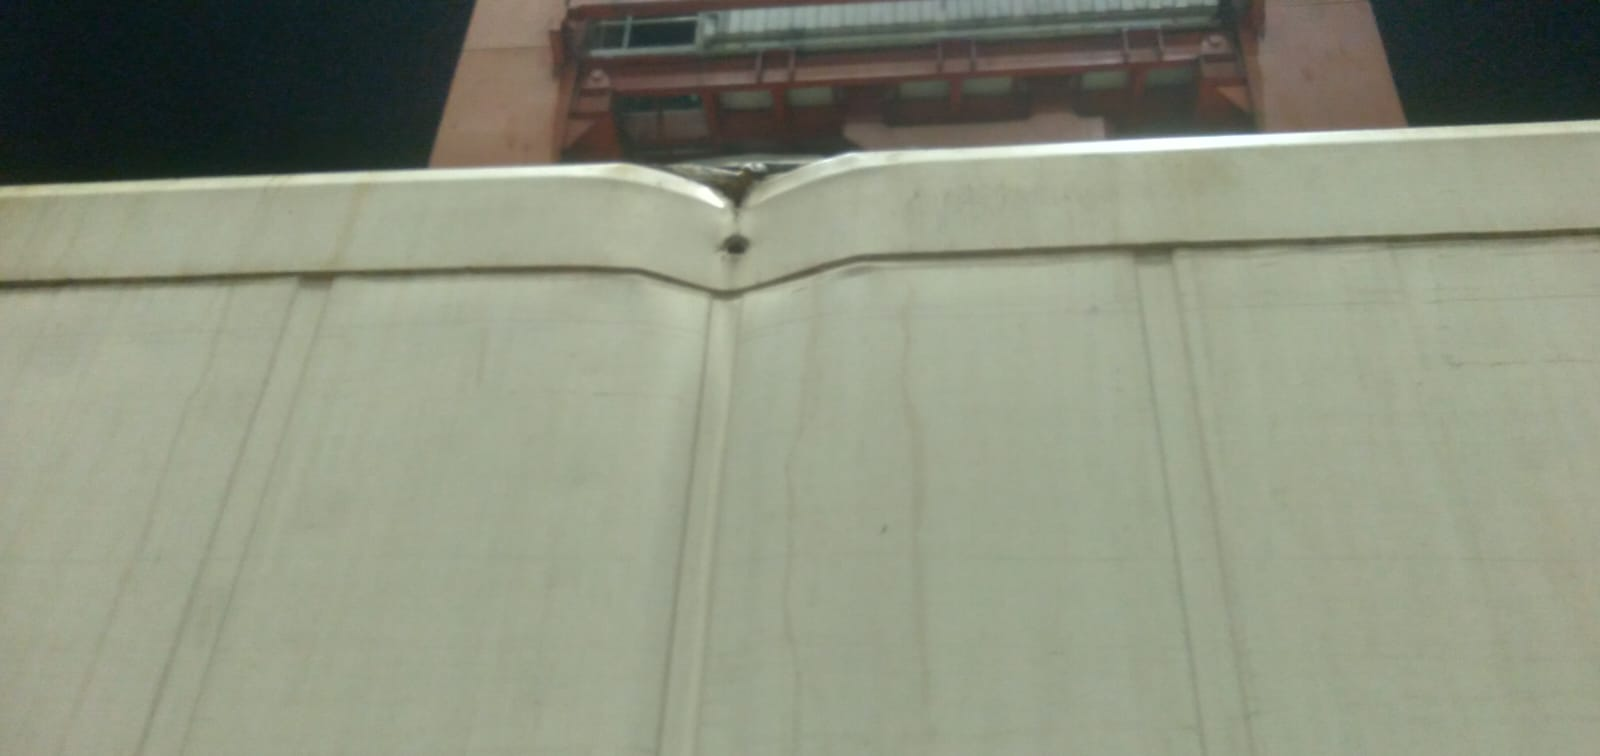dented: (558, 146, 923, 334)
